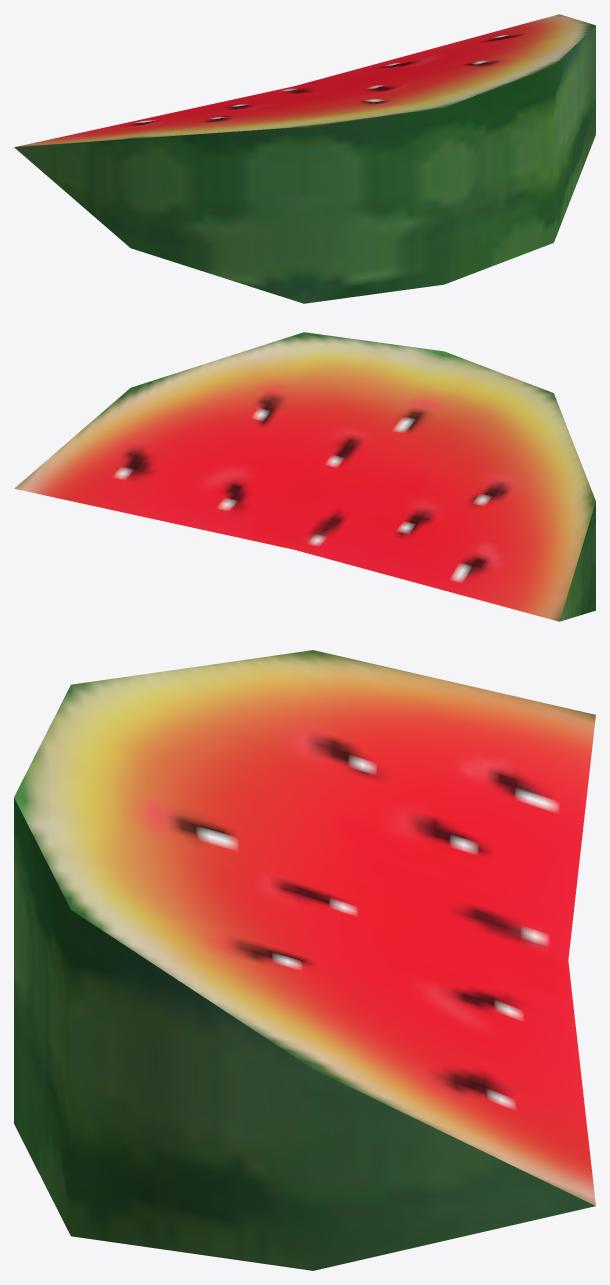
Rendered from Watermelon.fbx.
3 views of the same model, one above another, from view 1: azimuth 30°, elevation 25°; view 2: azimuth 150°, elevation 25°; view 3: azimuth 270°, elevation 25° (orthographic). The views are drawn at different scales.
Visible parts, largest first — view 1: Watermelon; view 2: Watermelon; view 3: Watermelon.
Part boxes in pixels (box(x1,y1,x2,y2)): Watermelon: box(14, 14, 595, 303); Watermelon: box(14, 332, 595, 621); Watermelon: box(14, 650, 595, 1270).
Size of the model in its own units: 18.45 by 9.24 by 5.72.
